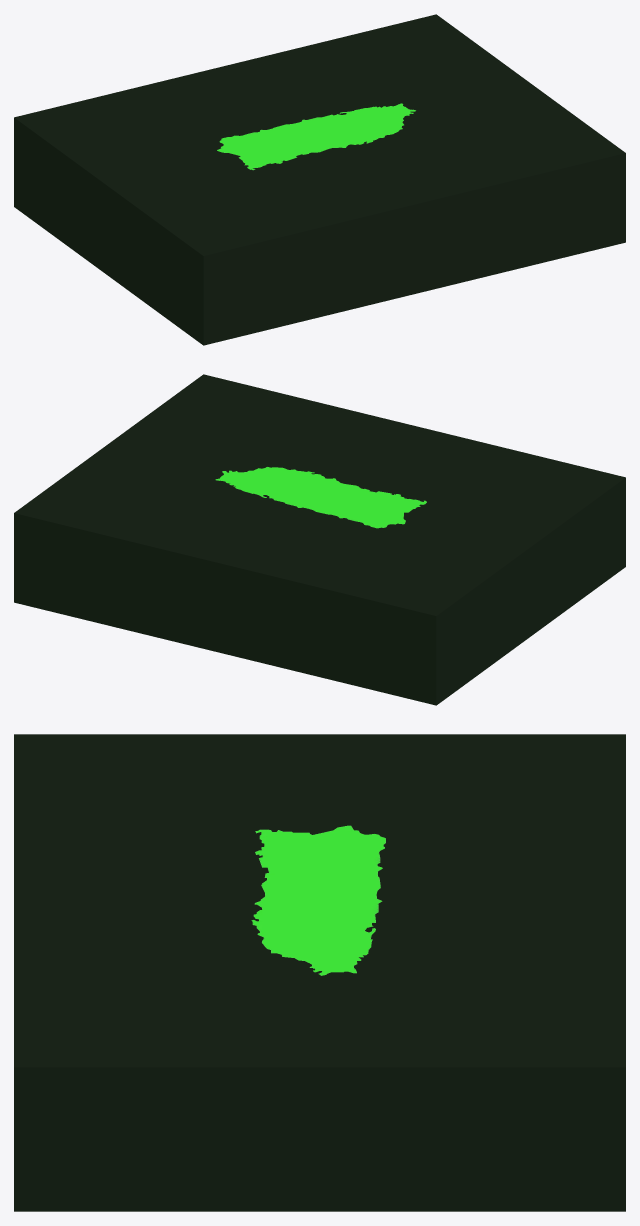
Rendered from water-transformed.glb.
3 views of the same model, one above another, from view 1: azimuth 30°, elevation 25°; view 2: azimuth 150°, elevation 25°; view 3: azimuth 270°, elevation 25° (orthographic). The views are drawn at different scales.
Visible parts, largest first — view 1: Water, Puerto Rico; view 2: Water, Puerto Rico; view 3: Water, Puerto Rico.
Boxes of the visible parts, x1,y1,x2,y2 form: Water: [14, 14, 625, 345]; Puerto Rico: [217, 103, 415, 170]; Water: [14, 374, 625, 705]; Puerto Rico: [215, 467, 426, 528]; Water: [14, 734, 625, 1211]; Puerto Rico: [251, 825, 385, 975].
Size of the model in its own units: 7.54 by 1.54 by 5.86.
2 materials, 1 textured.
